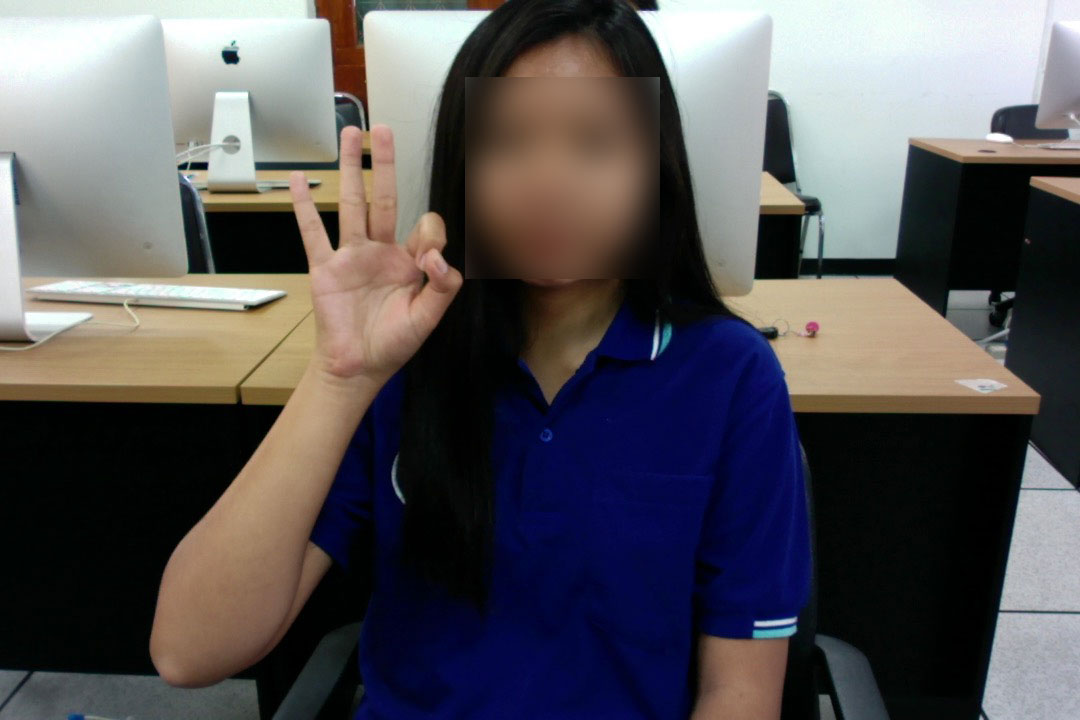for: (280, 117, 473, 386)
